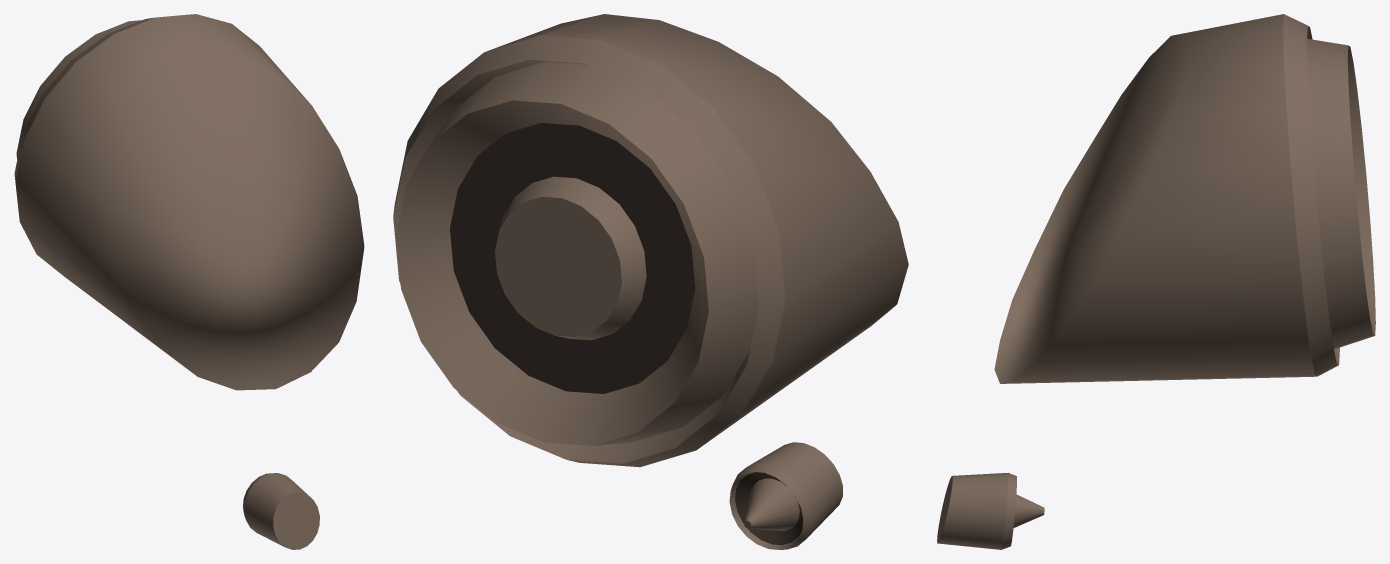
Rendered from Ship-Engine.fbx.
3 views of the same model, side by side, from view 1: azimuth 30°, elevation 25°; view 2: azimuth 150°, elevation 25°; view 3: azimuth 270°, elevation 25° (orthographic). The views are drawn at different scales.
Parts seen in each view (by area): view 1: Engines:Engine_Big1; view 2: Engines:Engine_Big1; view 3: Engines:Engine_Big1.
Boxes of the visible parts, x1,y1,x2,y2 form: Engines:Engine_Big1: (14, 14, 364, 549); Engines:Engine_Big1: (393, 14, 908, 549); Engines:Engine_Big1: (937, 14, 1375, 549).
Bounding box in the file's own units: 0.0668 × 0.1038 × 0.0798.
